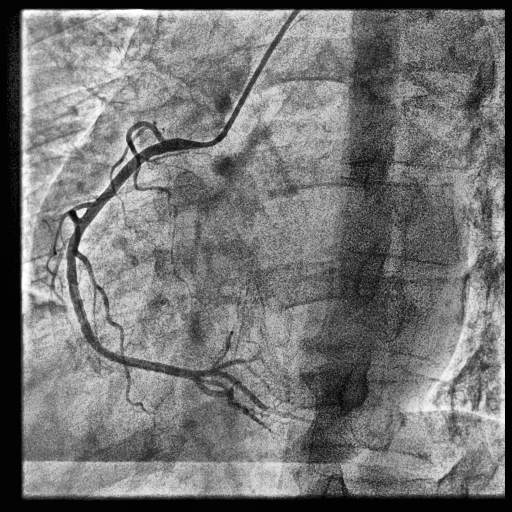pborca: (201, 368, 263, 407)
pda: (195, 380, 270, 428)
rca: (67, 138, 200, 381)
